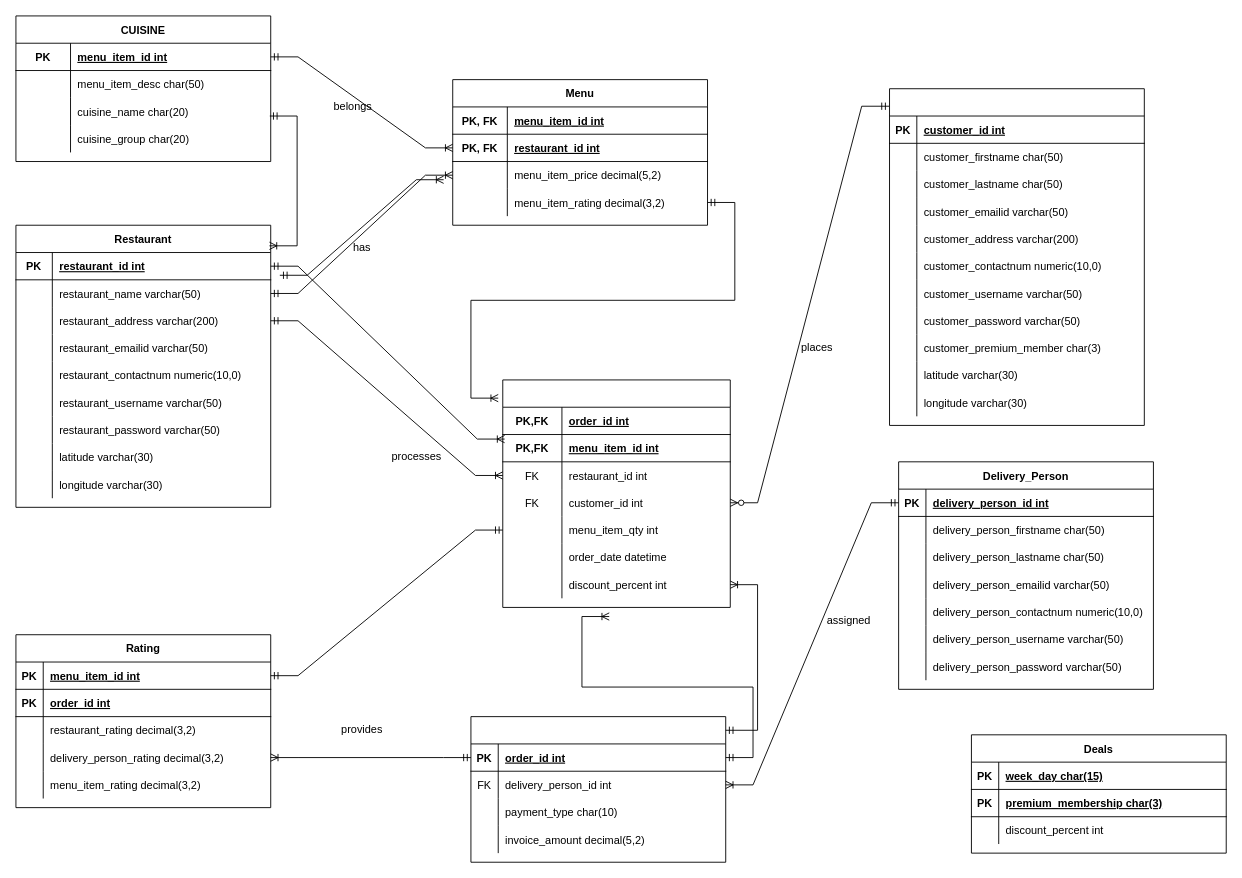
The diagram is 1242 pixels wide and 878 high, and some of its shapes have lost their labels. The box of each missing label's shape, as (x1, y1, x2, y2) in pixels:
Customers: (889, 88, 1144, 425)
Invoice/Final payment: (470, 716, 726, 862)
Orders: (502, 379, 730, 607)
